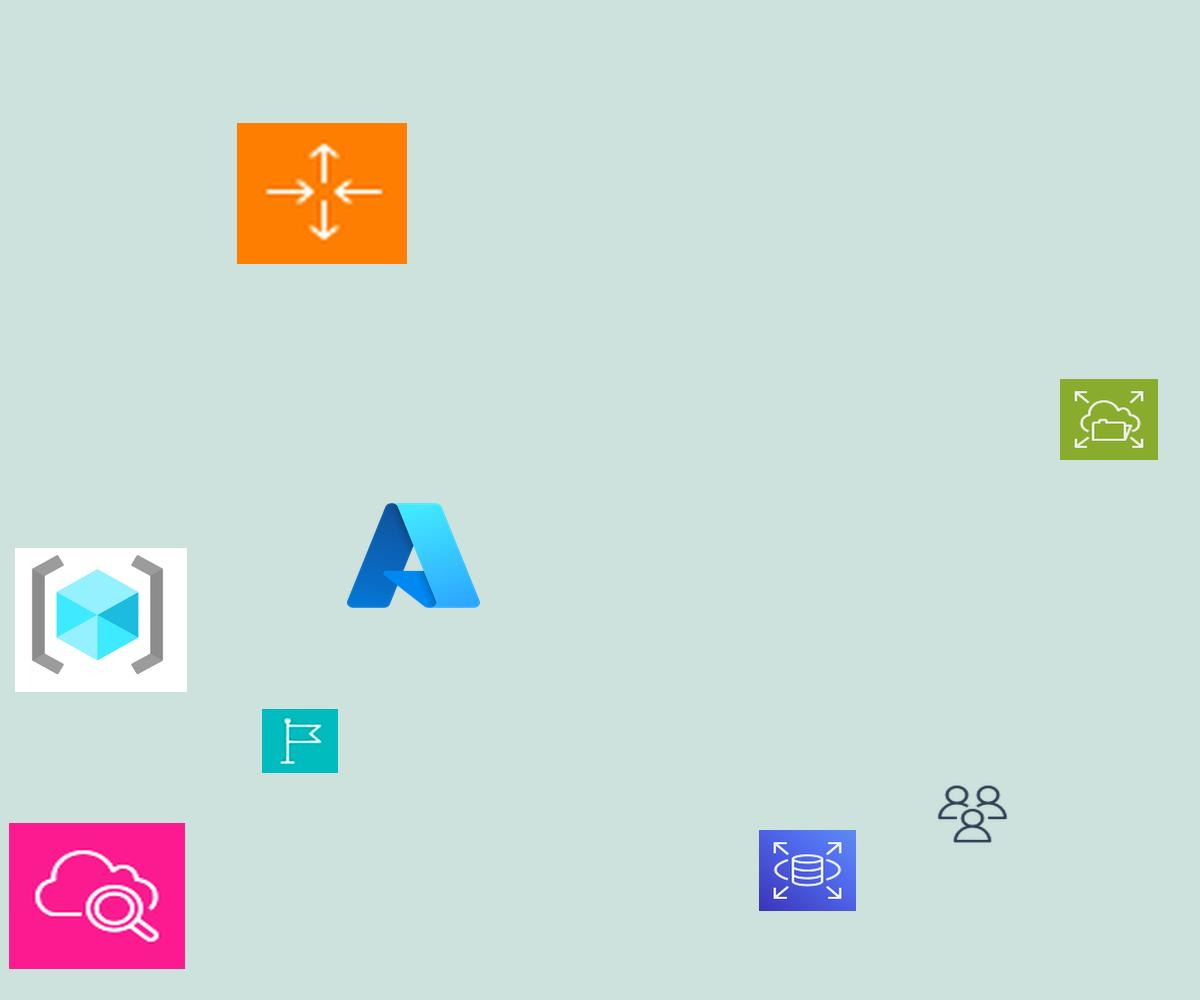AWS-CloudWatch: (9, 823, 185, 969)
AWS-EFS: (1060, 379, 1158, 460)
AWS-RDS: (759, 830, 856, 911)
AWS-Region: (262, 709, 338, 773)
AWS-Res_Users: (935, 783, 1010, 845)
AWS-Scaling-group: (237, 123, 407, 264)
Azure_resource_group: (15, 548, 187, 692)
Azure_services: (341, 495, 486, 616)
